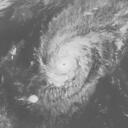cyclone: (34, 15, 112, 99)
